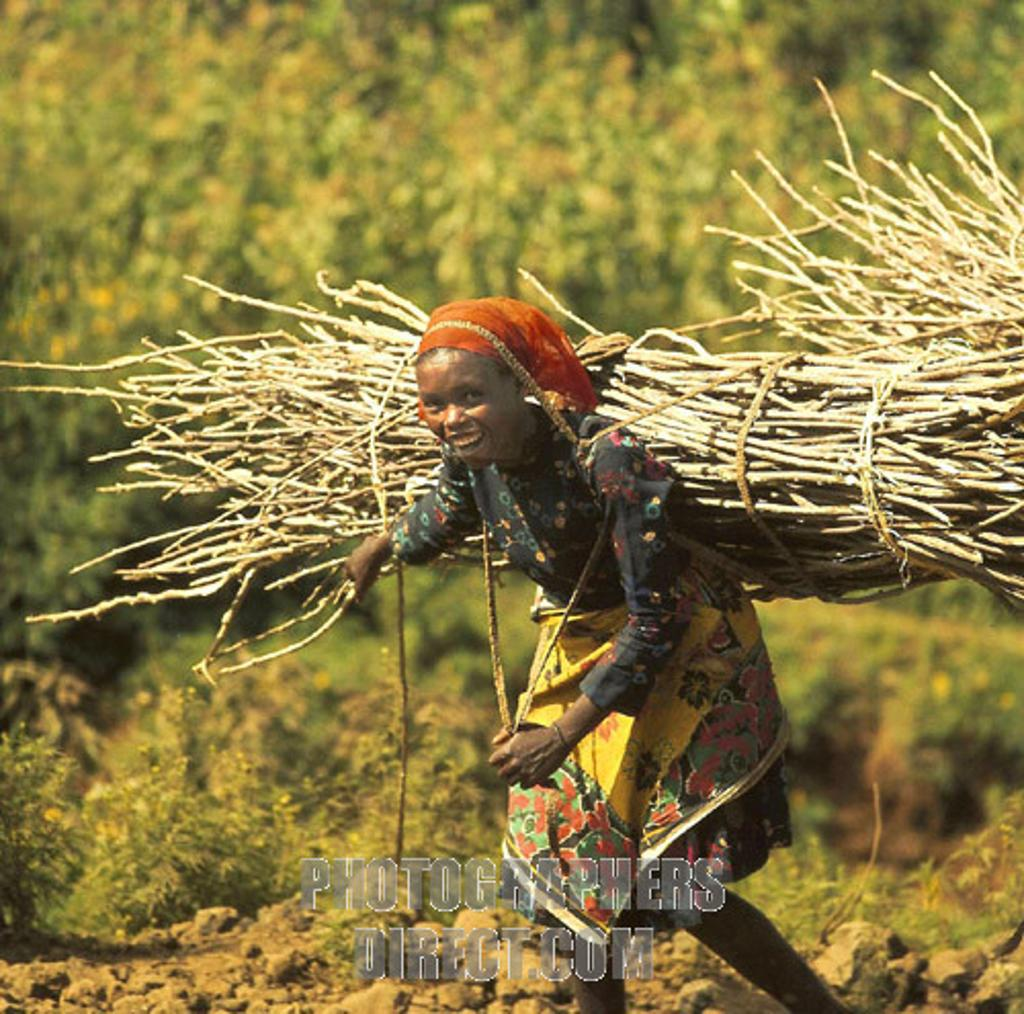face: (425, 357, 499, 465)
